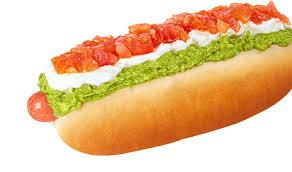Completos: (23, 0, 292, 166)
